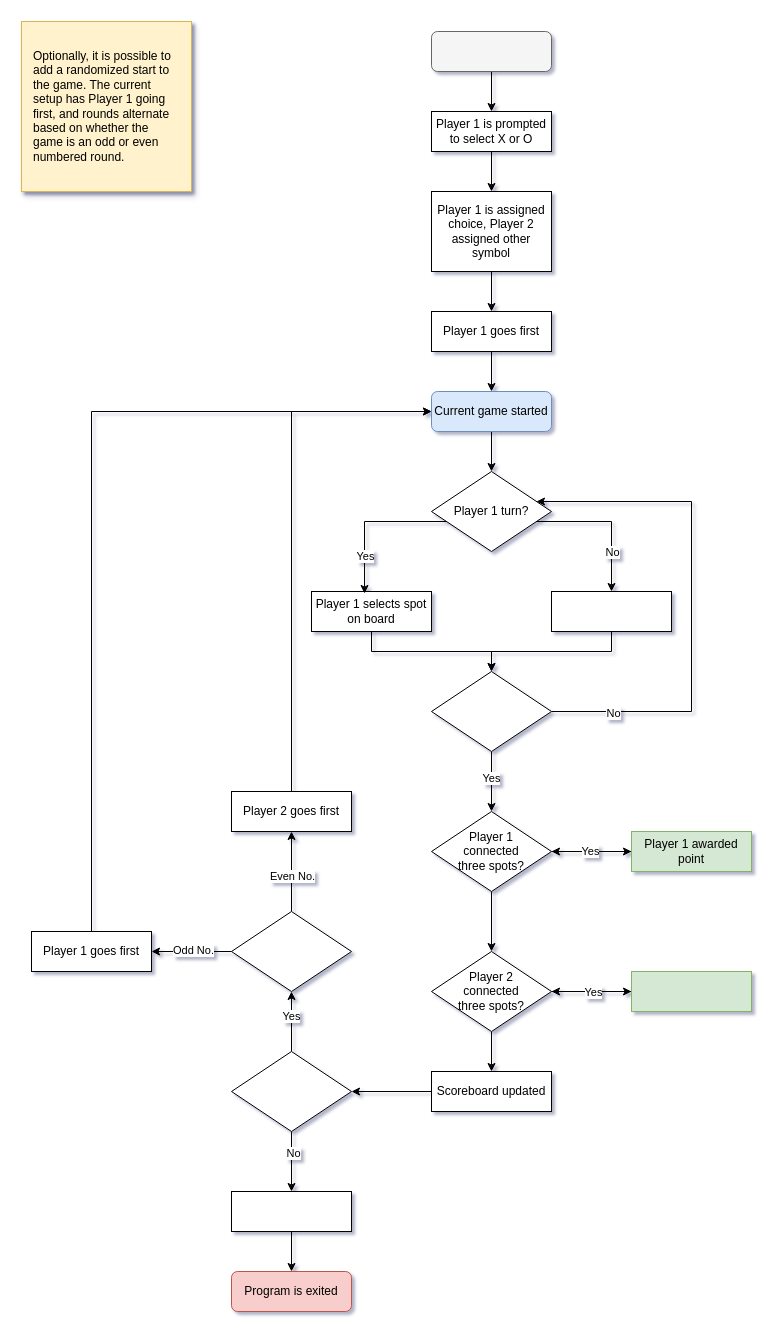
The diagram is 775 pixels wide and 1335 high, and some of its shapes have lost their labels. Each missing label, with the centre of its shape:
"Did a player connect three spots?" goes at point (491, 711).
"Final score is displayed" goes at point (291, 1211).
"Is new game odd or even?" goes at point (291, 951).
"Play again?" goes at point (291, 1091).
"Player 2 awarded point" goes at point (691, 991).
"Player 2 selects spot on board" goes at point (611, 611).
"Program is started" goes at point (491, 51).
